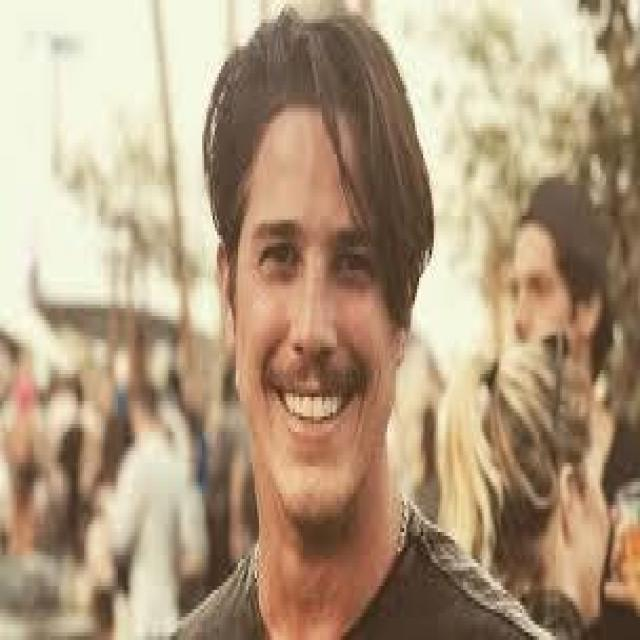person: (172, 4, 554, 636), (429, 347, 636, 636), (501, 166, 627, 405)
